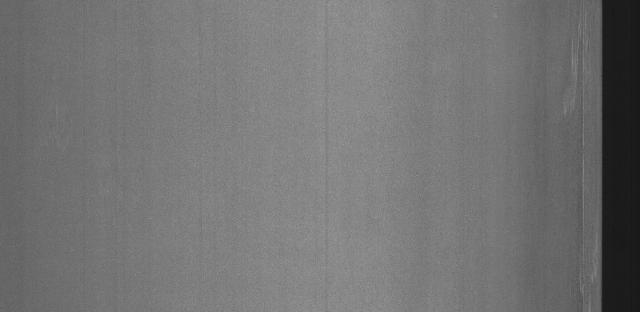silk_spot: (549, 15, 596, 126)
